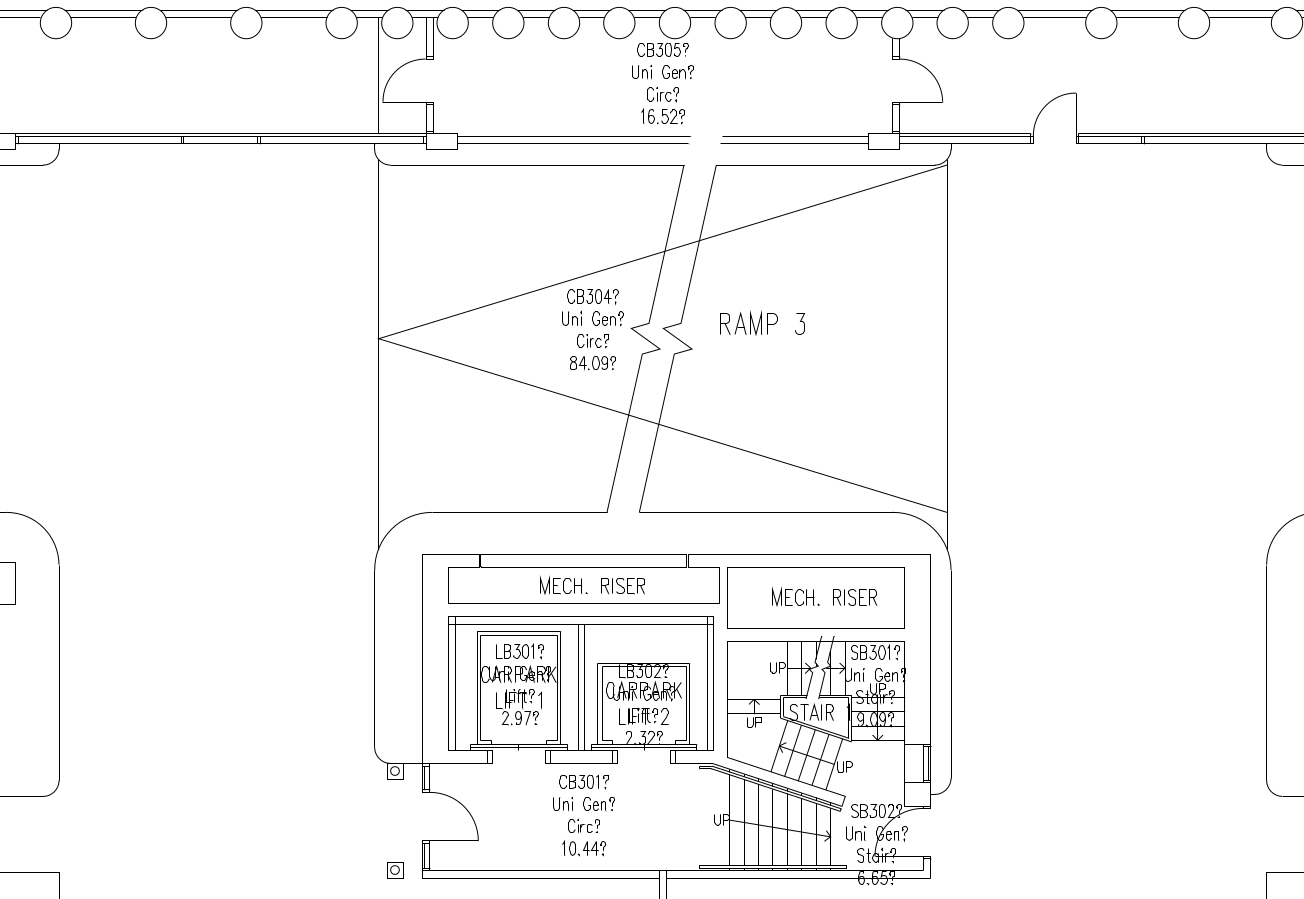door: (420, 790, 488, 845), (379, 53, 436, 108), (893, 52, 950, 107), (1028, 88, 1085, 143), (866, 805, 923, 860)
